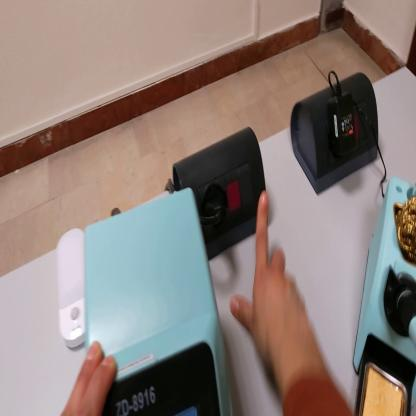hand: (229, 192, 320, 383), (61, 341, 117, 414)
socket: (171, 127, 265, 262), (292, 71, 383, 199)
welder base: (351, 179, 416, 415)
welder probe tip: (399, 290, 415, 343)
welder station: (82, 186, 235, 415)
